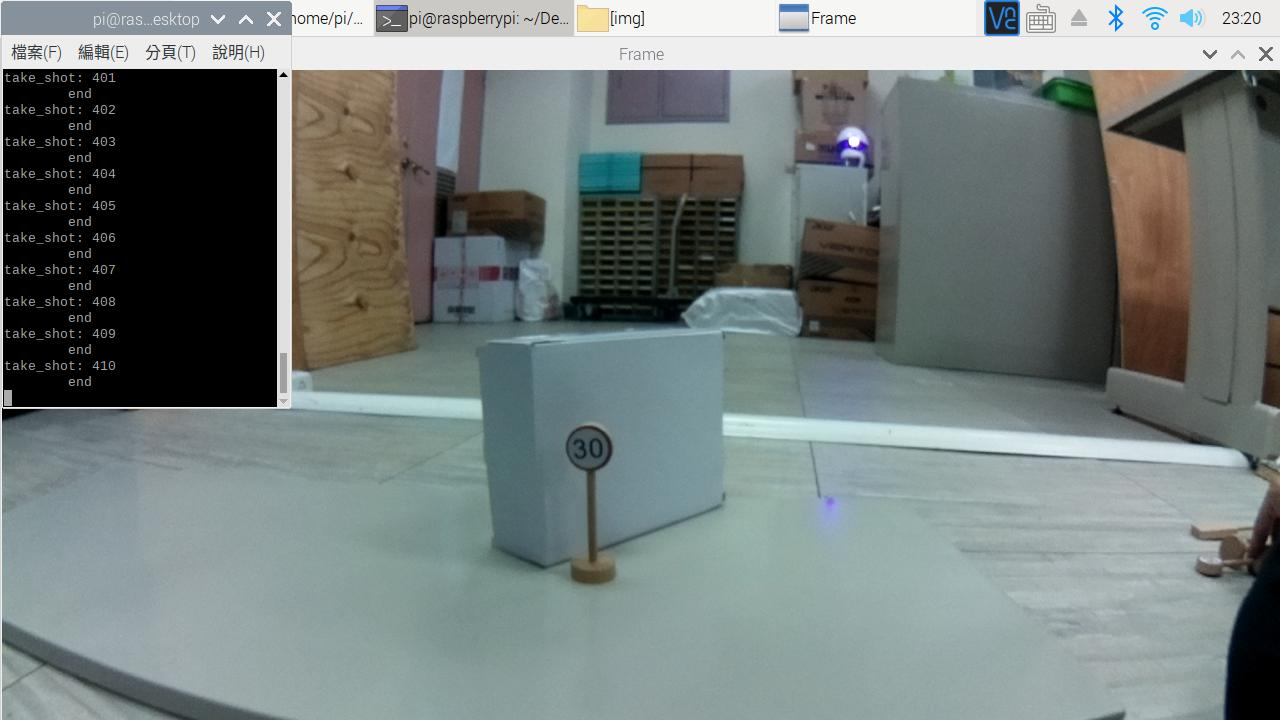Speed30: (548, 414, 635, 494)
